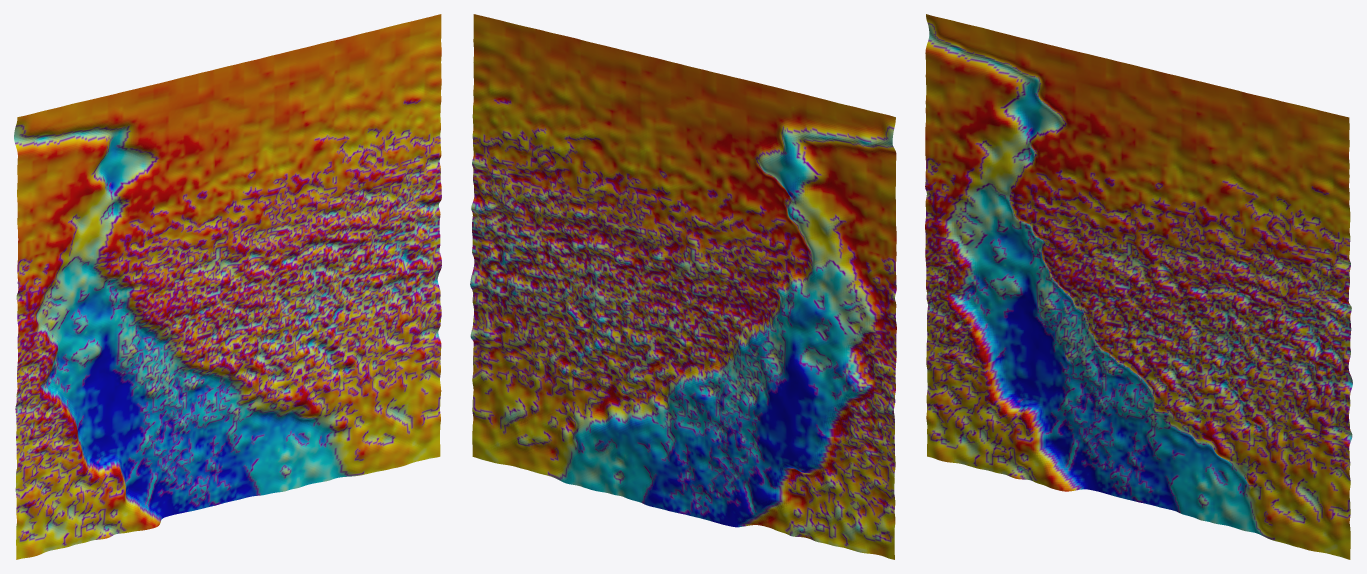
3 renders of one model, left to right at view 1: azimuth 30°, elevation 25°; view 2: azimuth 150°, elevation 25°; view 3: azimuth 330°, elevation 25°, orthographic.
Parts seen in each view (by area): view 1: world; view 2: world; view 3: world.
Boxes of the visible parts, left/top/right/bottom form: world: left=14, top=14, right=441, bottom=559; world: left=470, top=14, right=896, bottom=559; world: left=925, top=14, right=1352, bottom=559.
Bounding box in the file's own units: 299 × 299 × 12.
